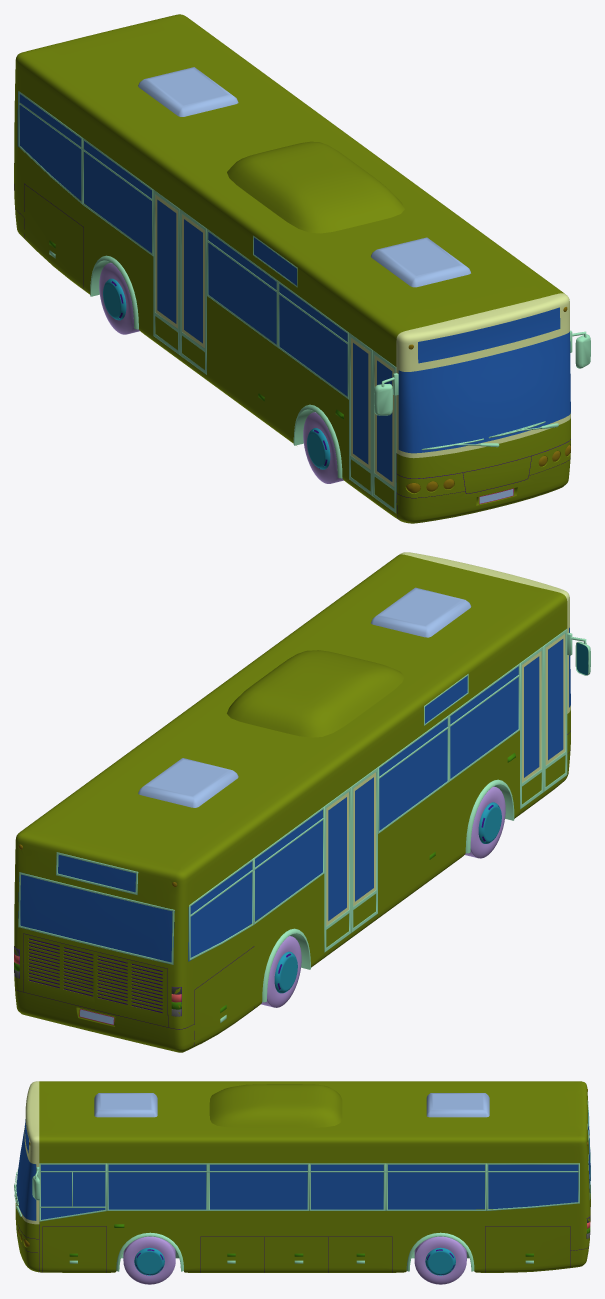
Rendered from chezi.obj.
3 renders of one model, top to bottom at view 1: azimuth 30°, elevation 25°; view 2: azimuth 150°, elevation 25°; view 3: azimuth 270°, elevation 25°, orthographic. The views are drawn at different scales.
Visible parts, largest first — view 1: body, glass, plastic, glassblk, body_blk, tyre, wheel, black; view 2: body, glass, plastic, body_blk, glassblk, black, tyre, wheel; view 3: body, glass, plastic, body_blk, tyre, wheel, glassblk, black.
Boxes of the visible parts, box(x1,y1,x2,y2) form: body: box(14, 14, 570, 523); glass: box(17, 92, 570, 492); plastic: box(18, 91, 590, 513); glassblk: box(155, 194, 570, 486); body_blk: box(138, 67, 470, 287); tyre: box(99, 263, 343, 483); wheel: box(103, 278, 330, 469); black: box(14, 163, 570, 520); body: box(14, 554, 570, 1052); glass: box(18, 627, 570, 962); plastic: box(18, 629, 590, 1022); body_blk: box(138, 587, 471, 807); glassblk: box(326, 552, 570, 925); black: box(14, 730, 570, 1045); tyre: box(261, 786, 505, 1007); wheel: box(274, 802, 501, 993); body: box(15, 1081, 590, 1272); glass: box(16, 1112, 590, 1220); plastic: box(14, 1100, 590, 1271); body_blk: box(94, 1093, 489, 1117); tyre: box(123, 1236, 466, 1284); wheel: box(134, 1247, 455, 1275); glassblk: box(16, 1081, 39, 1224); black: box(17, 1207, 590, 1274).
Size of the model in its own units: 80.14 by 79.76 by 260.
